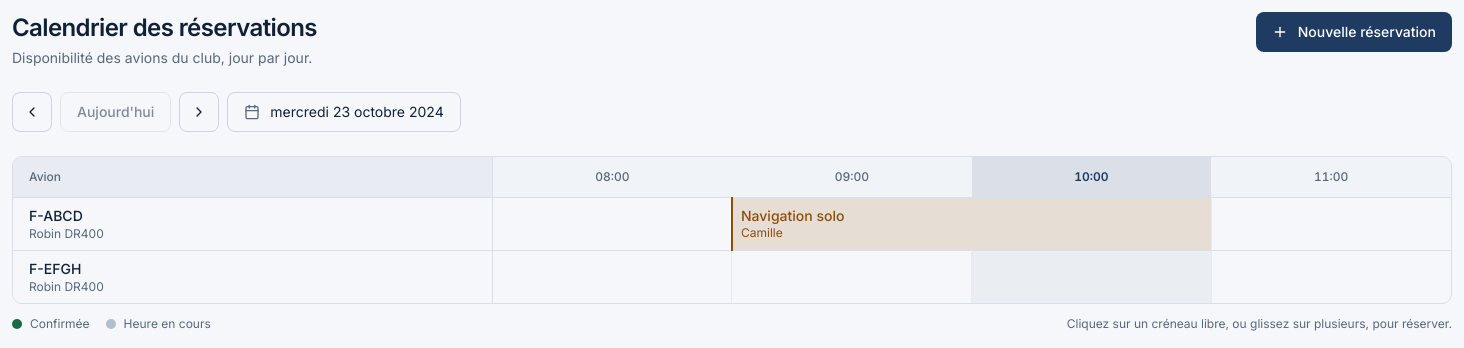
Test case: ReservationCalendar › doit revenir à la date du jour avec le bouton « Aujourd'hui »
Expected: the table is shown, [13, 157, 1451, 302]
Click the button named "Jour suivant" at [199, 112], box [179, 92, 219, 132]
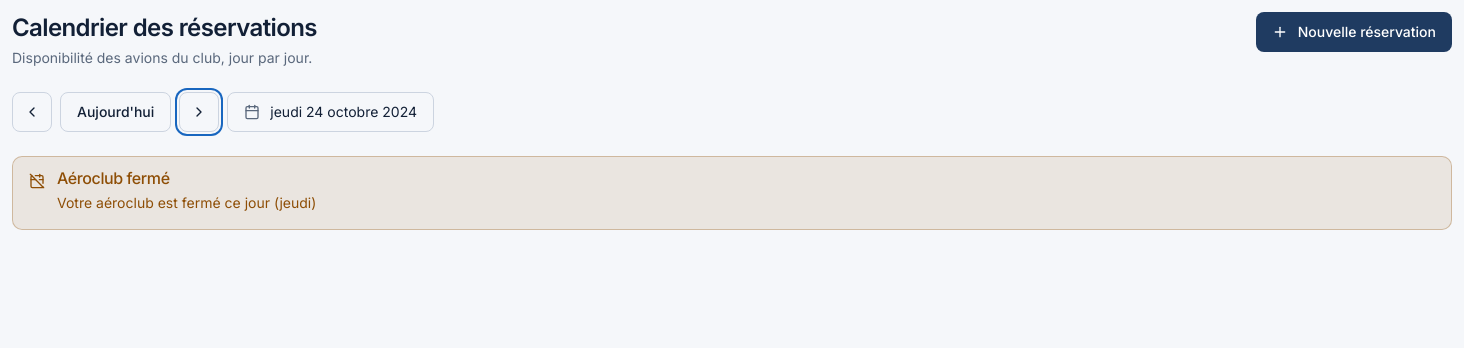
Now the button "jeudi 24 octobre 2024" is shown, box [227, 92, 434, 132]
Click the button "Aujourd'hui" at [116, 112], box [60, 92, 171, 132]
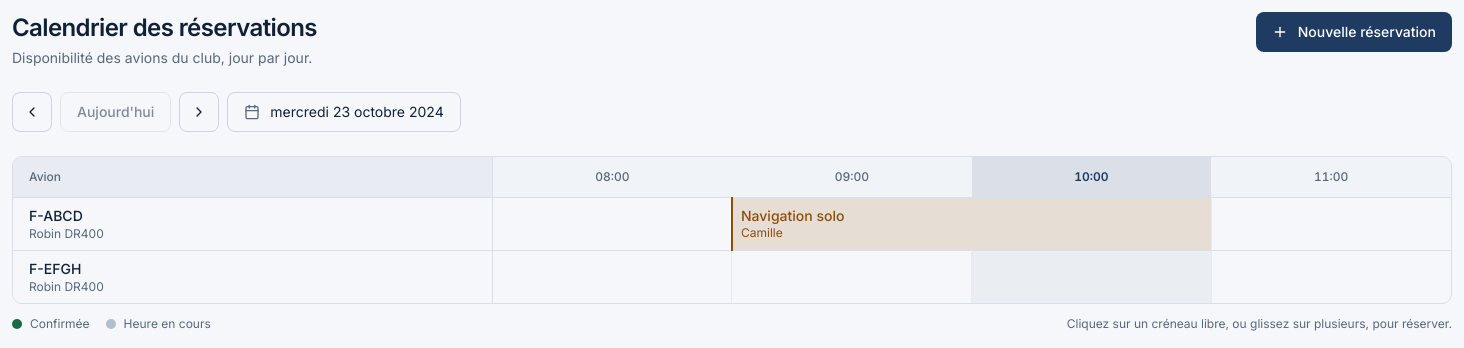
Now the button "mercredi 23 octobre 2024" is shown, box [227, 92, 461, 132]
Now the text "Navigation solo" is shown, box [741, 207, 844, 224]
